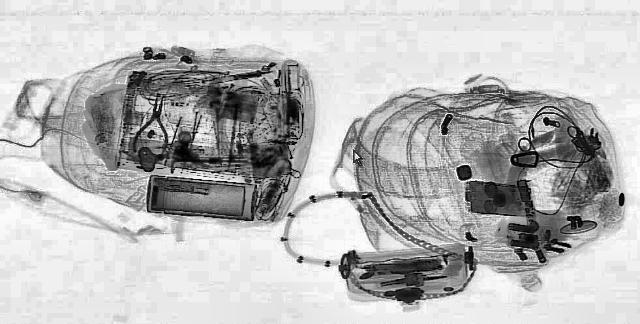Pliers: (128, 91, 178, 156)
